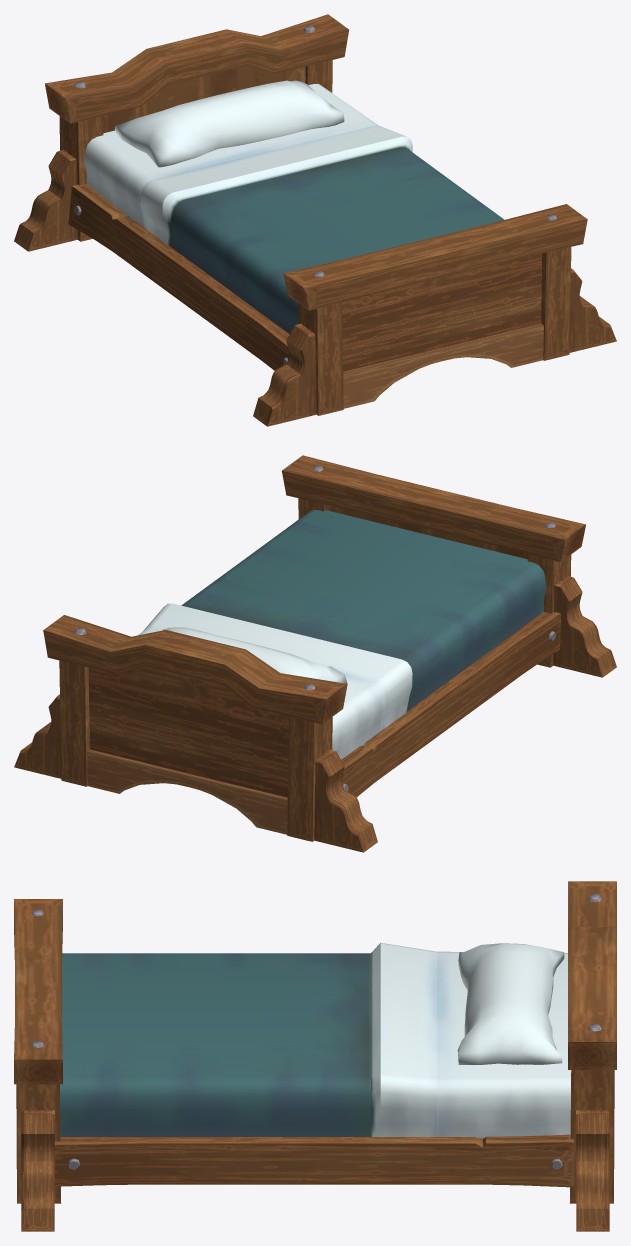
Rendered from Bed Twin1.glb.
3 renders of one model, top to bottom at view 1: azimuth 30°, elevation 25°; view 2: azimuth 150°, elevation 25°; view 3: azimuth 270°, elevation 25°, orthographic. The views are drawn at different scales.
Visible parts, largest first — view 1: Bed_Twin1; view 2: Bed_Twin1; view 3: Bed_Twin1.
Part boxes in pixels (box(x1,y1,x2,y2)): Bed_Twin1: box(14, 14, 616, 426); Bed_Twin1: box(14, 455, 616, 852); Bed_Twin1: box(14, 881, 616, 1231).
Size of the model in its own units: 1.88 by 0.8051 by 2.41.
Materials: 3 (3 with a texture image).
